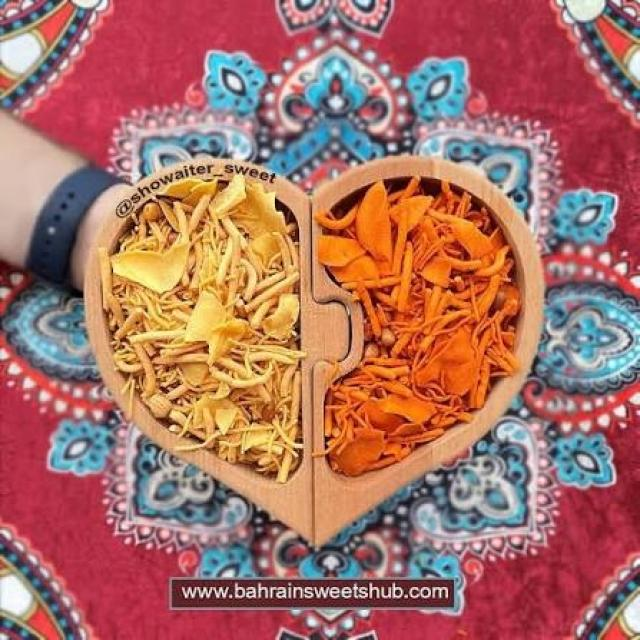Mattai: (104, 160, 526, 482)
